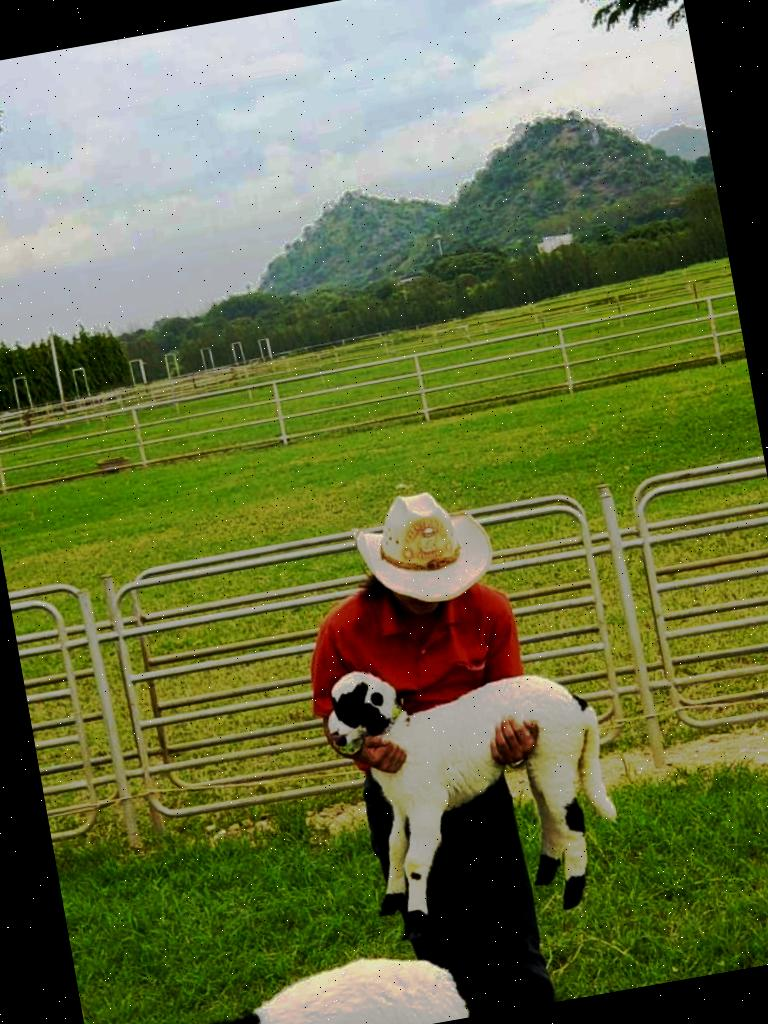Sheep: (314, 626, 639, 972)
